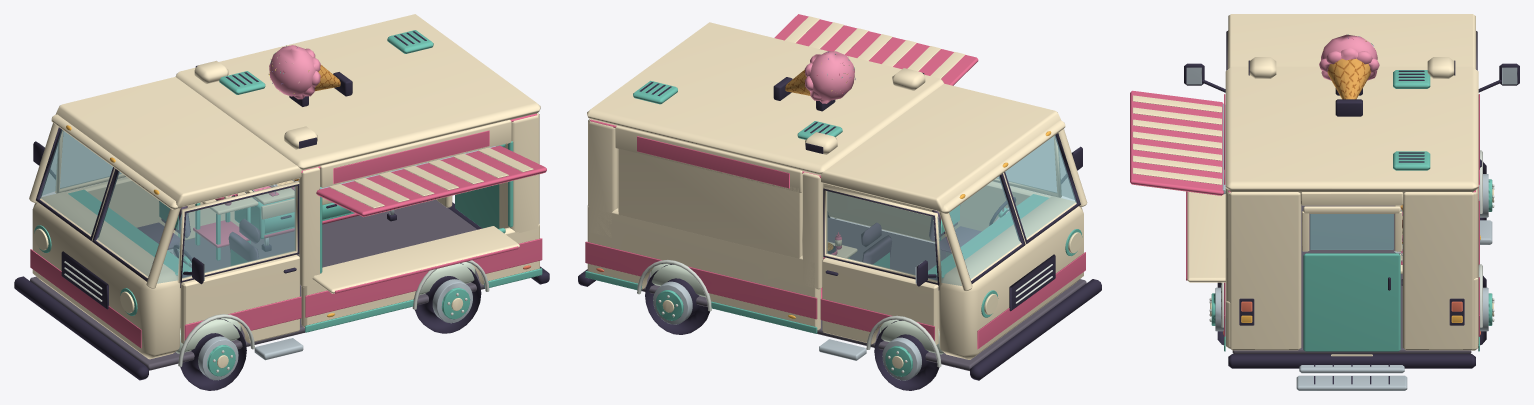
Rendered from IceCreamTruck.glb.
The picture shows the model from 3 angles, left to right: view 1: azimuth 30°, elevation 25°; view 2: azimuth 150°, elevation 25°; view 3: azimuth 270°, elevation 25°; orthographic projection. The views are drawn at different scales.
Parts seen in each view (by area): view 1: BodyShell_ROOT_Mesh, Roof_ROOT_Mesh, DriverDoor_HINGE_Mesh, Chassis_ROOT_Mesh, ServingHatch_HINGE_Mesh, ServiceLedge_ROOT_Mesh, PassengerDoor_HINGE_Mesh, Cabin_ROOT_Mesh, FrontLeft_Wheel_AXLE_Mesh, RearLeft_Wheel_AXLE_Mesh, PrepCounter_ROOT_Mesh.001, RoofSign_IceCreamScoop_Mesh (+4 smaller); view 2: BodyShell_ROOT_Mesh, Roof_ROOT_Mesh, PassengerDoor_HINGE_Mesh, Chassis_ROOT_Mesh, ServingHatch_HINGE_Mesh, DriverDoor_HINGE_Mesh, Cabin_ROOT_Mesh, RearRight_Wheel_AXLE_Mesh, FrontRight_Wheel_AXLE_Mesh, RoofSign_IceCreamScoop_Mesh, IceCreamTruck_ROOT_Mesh; view 3: BodyShell_ROOT_Mesh, Roof_ROOT_Mesh, RearEntryDoor_HINGE_Mesh, ServingHatch_HINGE_Mesh, Chassis_ROOT_Mesh, ServiceLedge_ROOT_Mesh, IceCreamTruck_ROOT_Mesh.002, RoofSign_IceCreamScoop_Mesh, IceCreamTruck_ROOT_Mesh, RoofSign_FinishedCone_ROOT_Mesh, RearRight_Wheel_AXLE_Mesh, RearLeft_Wheel_AXLE_Mesh (+1 smaller).
Boxes of the visible parts, x1,y1,x2,y2 form: BodyShell_ROOT_Mesh: (14, 77, 549, 380); Roof_ROOT_Mesh: (175, 14, 540, 173); DriverDoor_HINGE_Mesh: (177, 181, 301, 343); Chassis_ROOT_Mesh: (30, 199, 484, 370); ServingHatch_HINGE_Mesh: (316, 145, 546, 216); ServiceLedge_ROOT_Mesh: (312, 226, 519, 293); PassengerDoor_HINGE_Mesh: (55, 130, 178, 235); Cabin_ROOT_Mesh: (68, 189, 260, 287); FrontLeft_Wheel_AXLE_Mesh: (180, 318, 246, 390); RearLeft_Wheel_AXLE_Mesh: (415, 263, 481, 333); PrepCounter_ROOT_Mesh.001: (234, 184, 396, 251); RoofSign_IceCreamScoop_Mesh: (268, 45, 320, 99); BodyShell_ROOT_Mesh: (578, 83, 1101, 380); Roof_ROOT_Mesh: (587, 22, 943, 177); PassengerDoor_HINGE_Mesh: (820, 186, 942, 344); Chassis_ROOT_Mesh: (641, 217, 1086, 370); ServingHatch_HINGE_Mesh: (774, 14, 978, 85); DriverDoor_HINGE_Mesh: (941, 136, 1061, 239); Cabin_ROOT_Mesh: (861, 194, 1048, 290); RearRight_Wheel_AXLE_Mesh: (645, 264, 709, 334); FrontRight_Wheel_AXLE_Mesh: (874, 320, 940, 390); RoofSign_IceCreamScoop_Mesh: (804, 51, 855, 103); IceCreamTruck_ROOT_Mesh: (819, 146, 1082, 360); BodyShell_ROOT_Mesh: (1221, 14, 1482, 368); Roof_ROOT_Mesh: (1225, 57, 1478, 192); RearEntryDoor_HINGE_Mesh: (1302, 206, 1401, 351); ServingHatch_HINGE_Mesh: (1130, 90, 1225, 195); Chassis_ROOT_Mesh: (1232, 205, 1471, 353); ServiceLedge_ROOT_Mesh: (1186, 191, 1225, 282); IceCreamTruck_ROOT_Mesh.002: (1296, 364, 1407, 390); RoofSign_IceCreamScoop_Mesh: (1319, 34, 1379, 80); IceCreamTruck_ROOT_Mesh: (1184, 63, 1519, 244); RoofSign_FinishedCone_ROOT_Mesh: (1327, 58, 1371, 99); RearRight_Wheel_AXLE_Mesh: (1480, 276, 1494, 345); RearLeft_Wheel_AXLE_Mesh: (1209, 282, 1223, 345).
Size of the model in its own units: 7.82 by 4.52 by 6.13.
38 materials, 1 textured.
